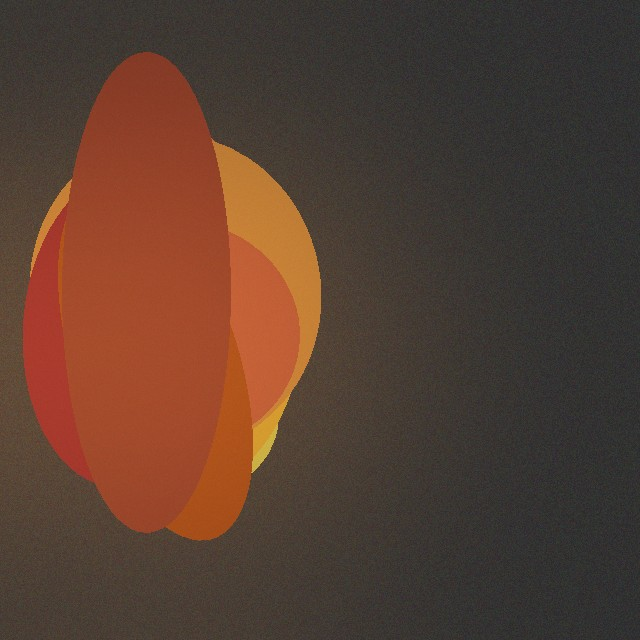fire: (21, 219, 329, 481)
